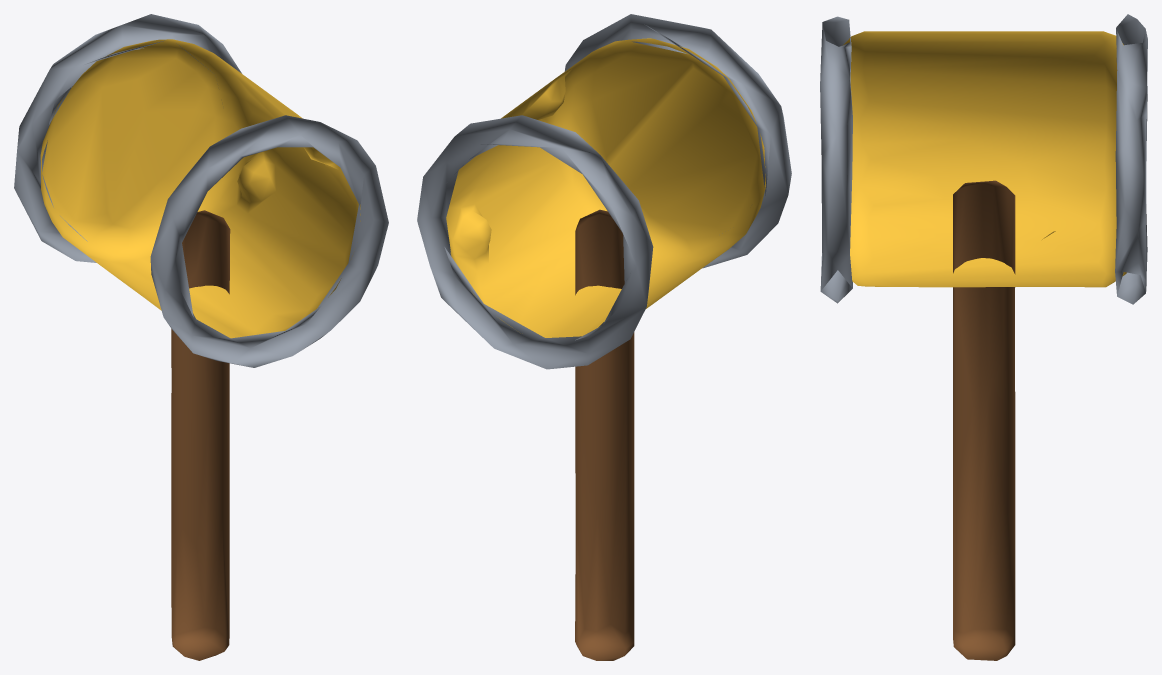
Rendered from wpn_elephante.glb.
3 views of the same model, side by side, from view 1: azimuth 30°, elevation 25°; view 2: azimuth 150°, elevation 25°; view 3: azimuth 270°, elevation 25° (orthographic). The views are drawn at different scales.
Parts seen in each view (by area): view 1: body; view 2: body; view 3: body.
Boxes of the visible parts, x1=… form: body: x1=14, y1=14, x2=388, y2=660; body: x1=417, y1=14, x2=791, y2=660; body: x1=820, y1=14, x2=1147, y2=660.
Bounding box in the file's own units: 0.9093 × 2.14 × 1.02.
Materials: 1 (1 with a texture image).
